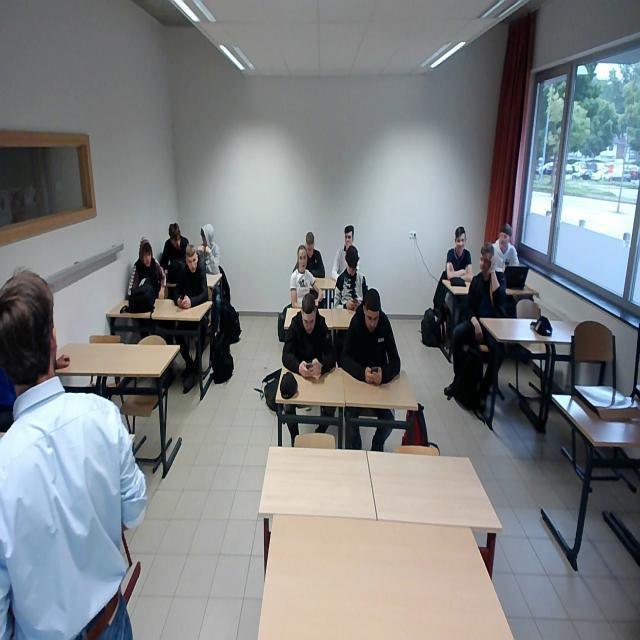Looking away: (498, 224, 514, 248)
Looking forward: (139, 237, 153, 270), (480, 244, 492, 272), (456, 228, 467, 252), (298, 246, 308, 272), (344, 225, 354, 248)
Phone use: (342, 286, 400, 387), (284, 292, 336, 376), (332, 247, 370, 311), (175, 241, 209, 309)
